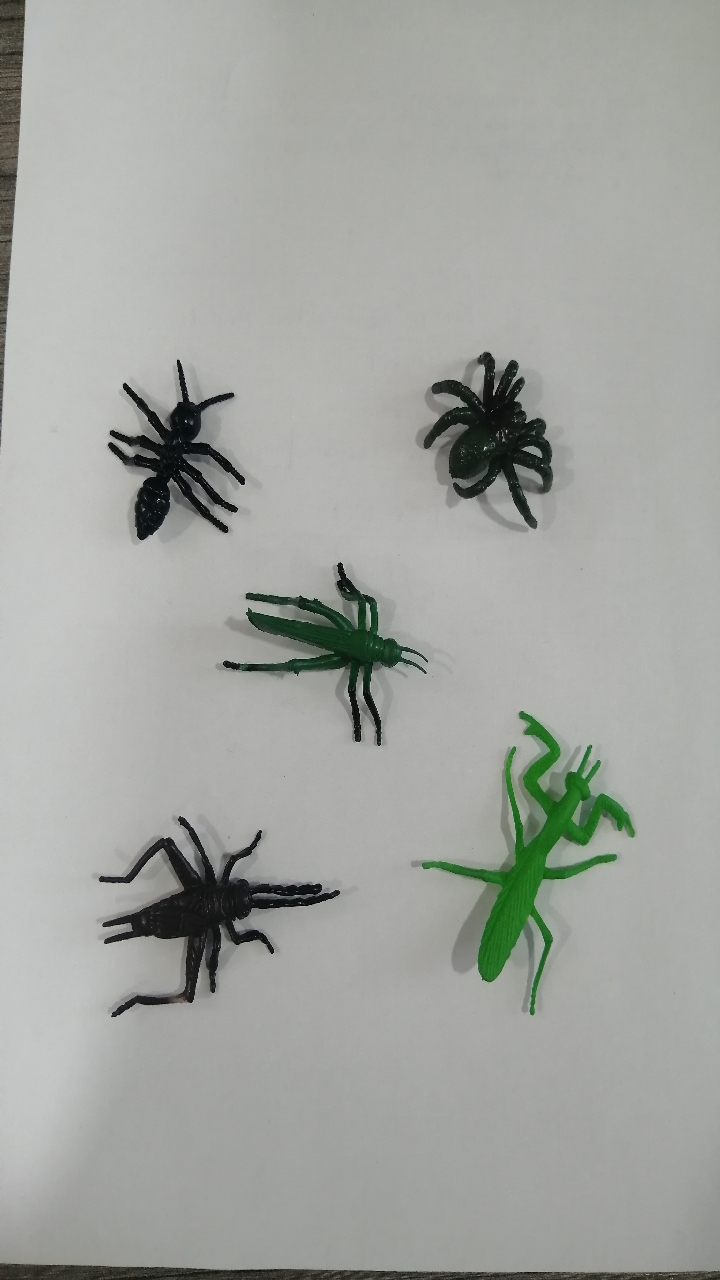intruso: (409, 672, 648, 1023), (57, 794, 381, 1051), (63, 332, 269, 592), (220, 540, 443, 757), (381, 320, 578, 546)
